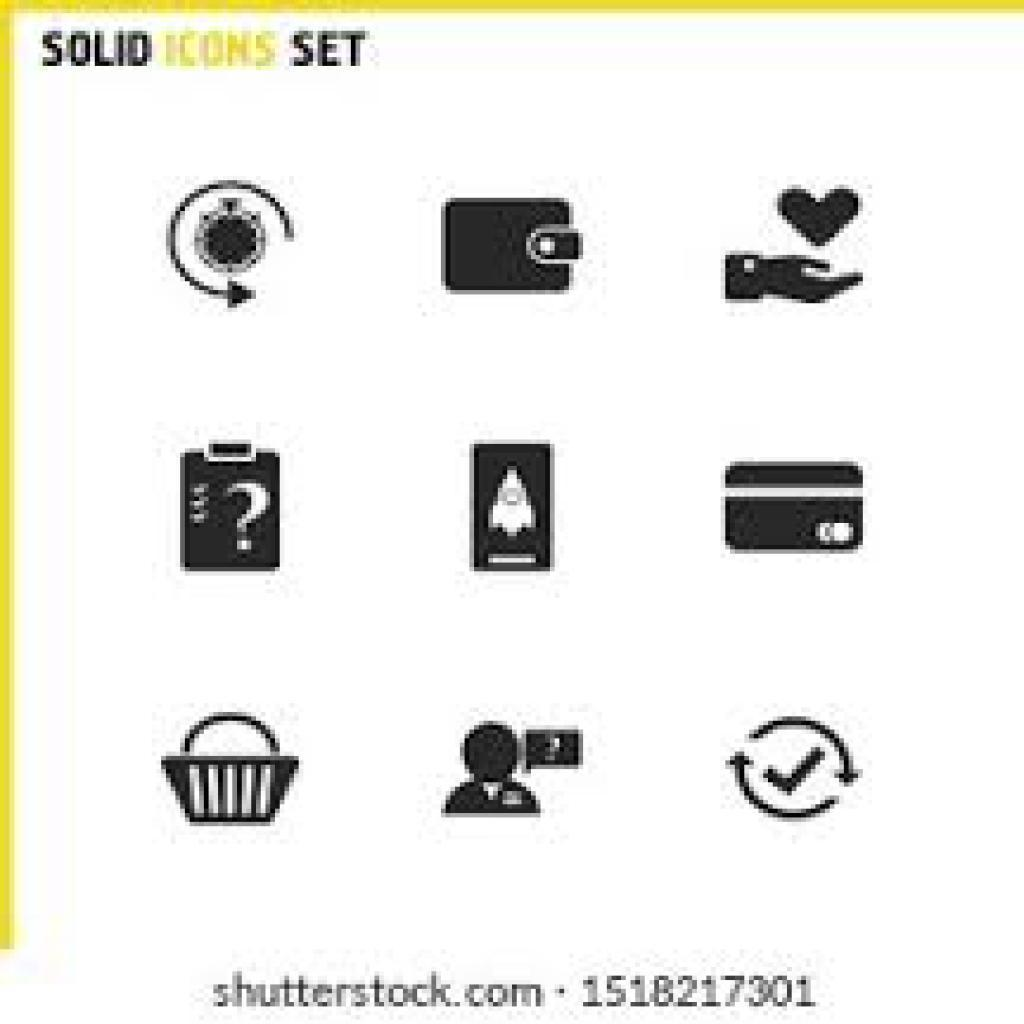icon: (422, 178, 611, 318), (718, 177, 884, 333), (158, 165, 309, 323), (165, 426, 306, 595), (151, 705, 316, 846), (443, 696, 598, 836), (713, 442, 875, 564), (725, 704, 862, 832), (463, 435, 566, 591)
